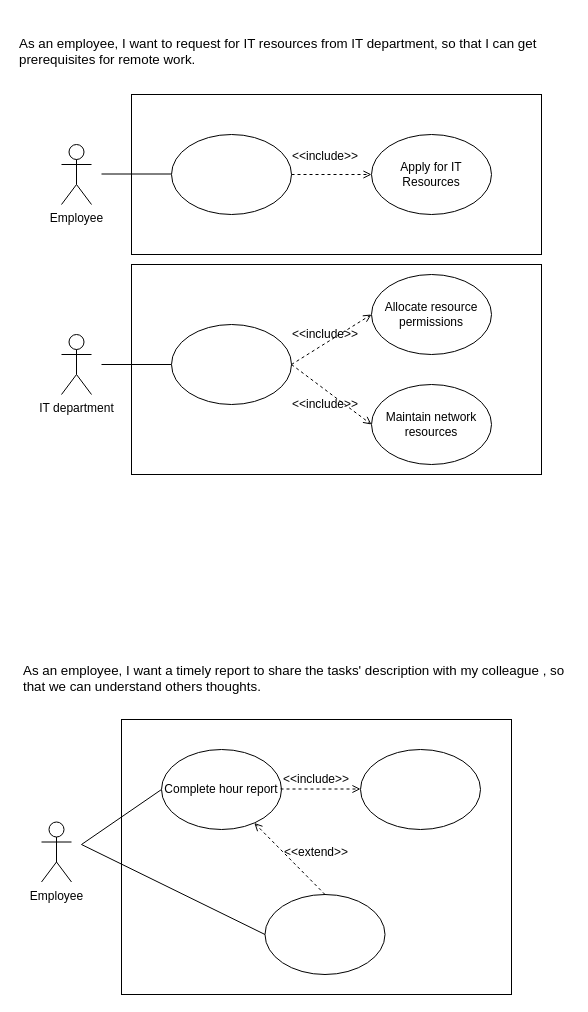
This 588x1012 diagram has some shape labels left out. The centre of each missing label's shape, as x and y in pixels:
"Manage network resources" goes at point 231,364.
"Provide tasks' description" goes at point 420,789.
"Request resource" goes at point 231,174.
"Share hour report" goes at point 324,934.
